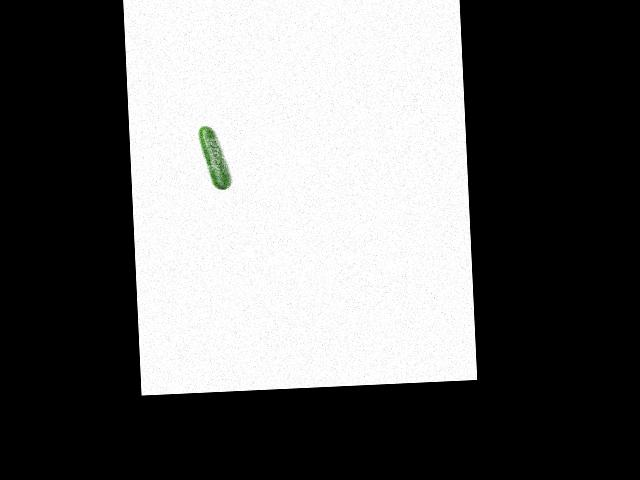cucumber: (198, 125, 231, 191)
